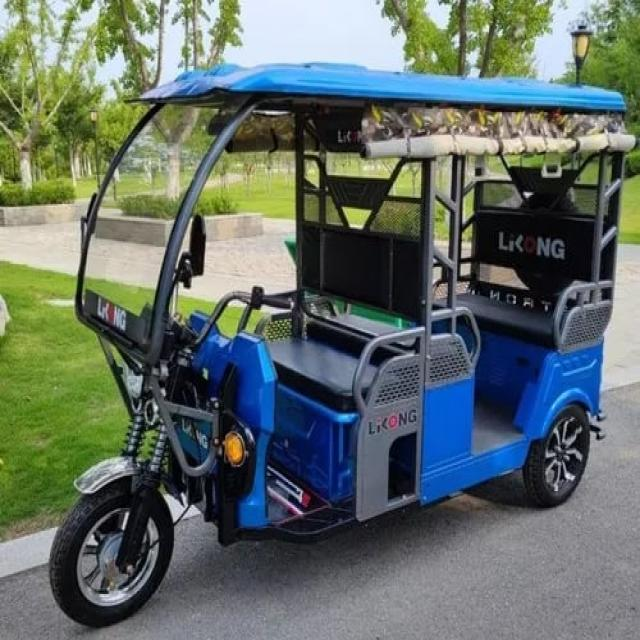rickshaw: (44, 54, 640, 610)
